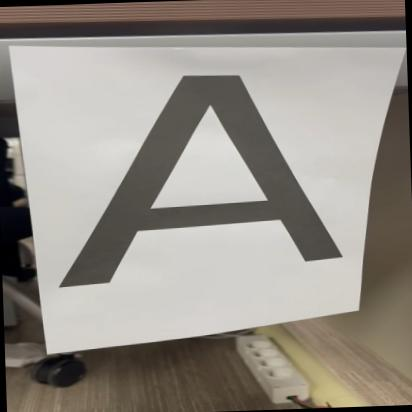seat: (48, 64, 356, 290)
